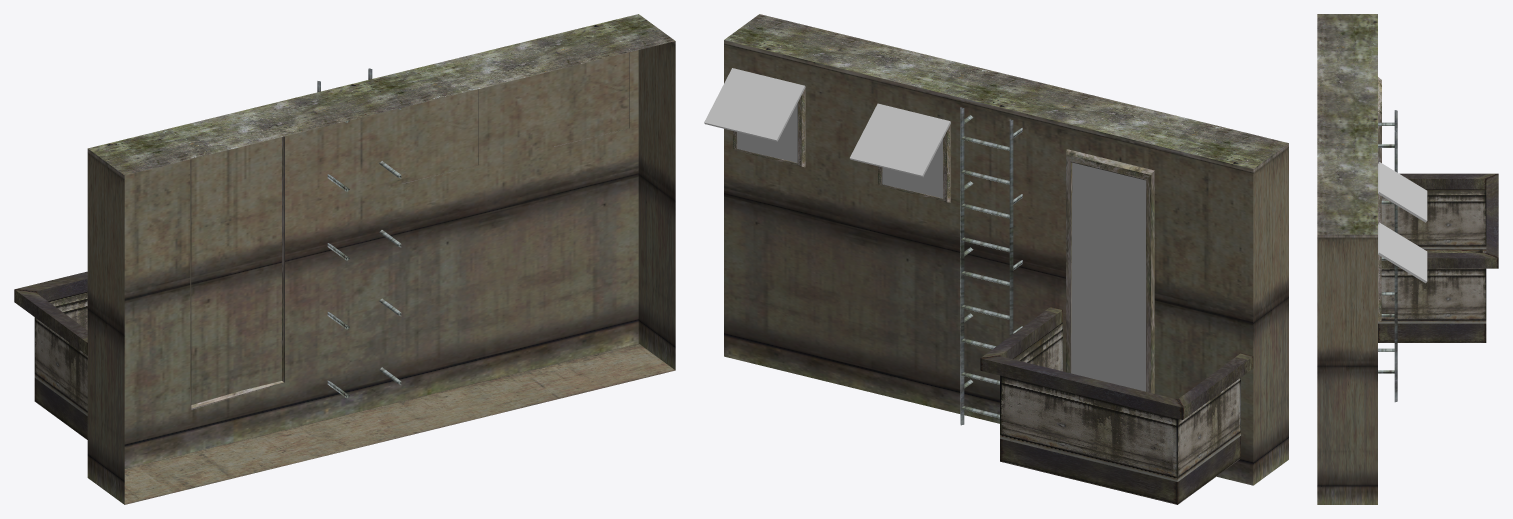
The model's file is Store_front_14_B.fbx.
3 renders of one model, left to right at view 1: azimuth 30°, elevation 25°; view 2: azimuth 150°, elevation 25°; view 3: azimuth 270°, elevation 25°, orthographic. The views are drawn at different scales.
Visible parts, largest first — view 1: Store_front_14_B; view 2: Store_front_14_B; view 3: Store_front_14_B.
Part boxes in pixels (left/top/right/bottom): Store_front_14_B: left=14, top=14, right=675, bottom=504; Store_front_14_B: left=704, top=14, right=1288, bottom=504; Store_front_14_B: left=1317, top=14, right=1498, bottom=504.
Bounding box in the file's own units: 700 × 400 × 243.
